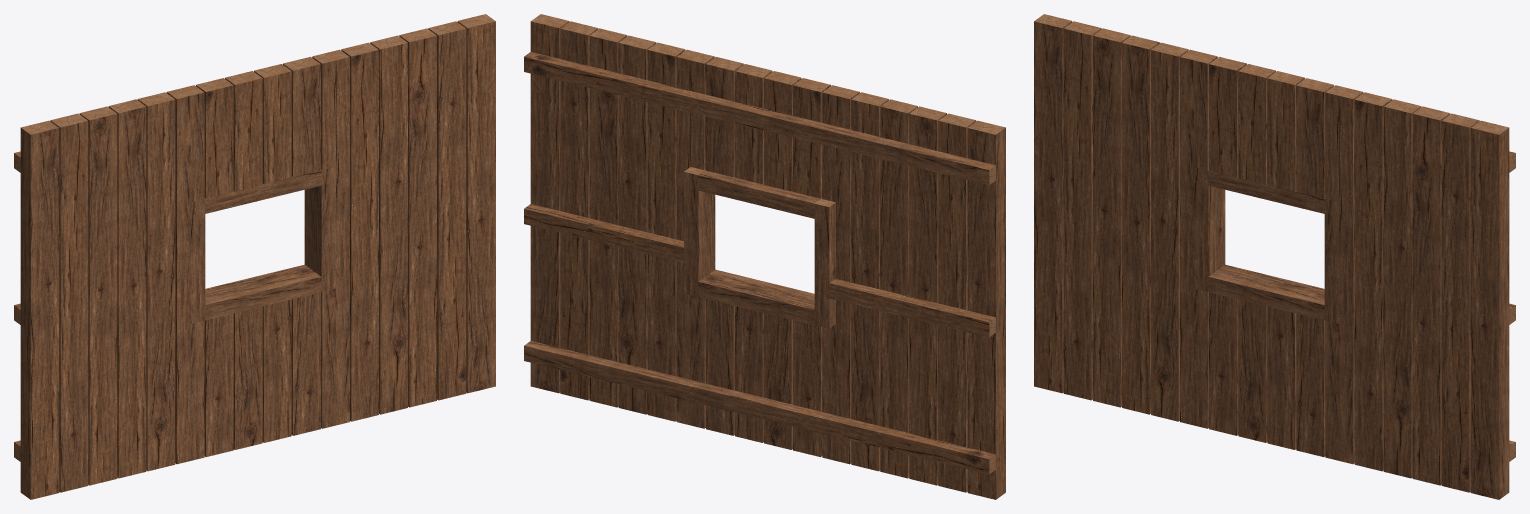
Rendered from W11_ShutterWall_4x3x0.25.fbx.
3 renders of one model, left to right at view 1: azimuth 30°, elevation 25°; view 2: azimuth 150°, elevation 25°; view 3: azimuth 330°, elevation 25°, orthographic.
Parts seen in each view (by area): view 1: OpeningKit_W11_Export; view 2: OpeningKit_W11_Export; view 3: OpeningKit_W11_Export.
Part boxes in pixels (bbox=[...]): OpeningKit_W11_Export: bbox=[14, 14, 495, 499]; OpeningKit_W11_Export: bbox=[524, 14, 1005, 499]; OpeningKit_W11_Export: bbox=[1034, 14, 1515, 499].
Bounding box in the file's own units: 4 × 3 × 0.25.
